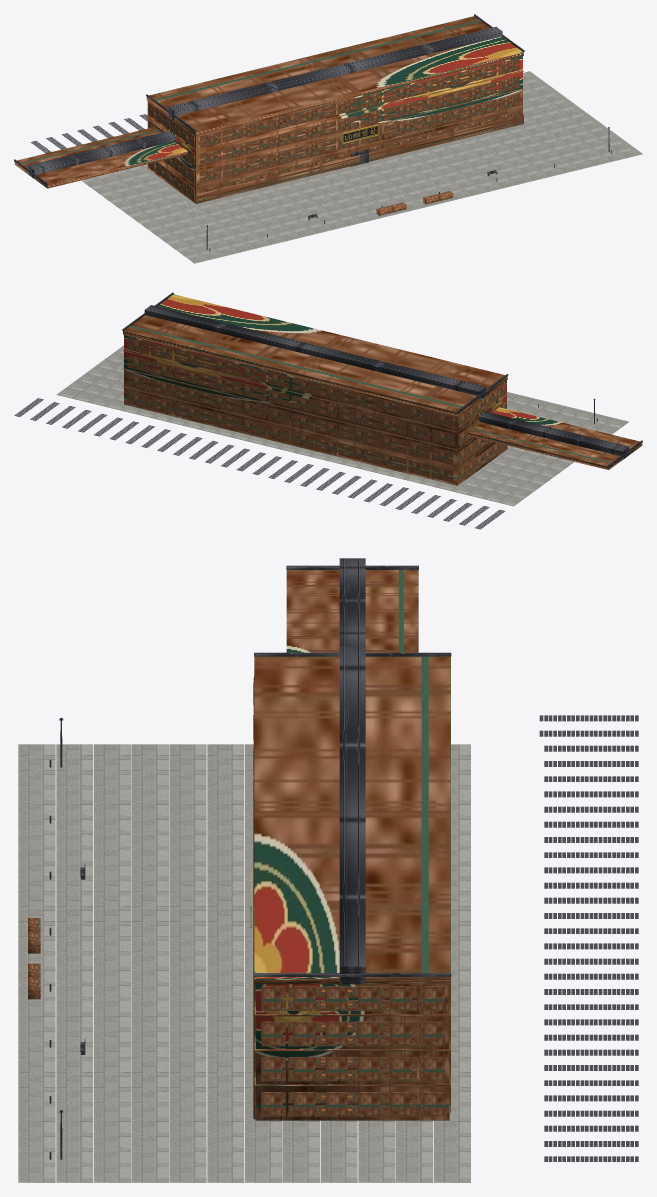
3 views of the same model, one above another, from view 1: azimuth 30°, elevation 25°; view 2: azimuth 150°, elevation 25°; view 3: azimuth 270°, elevation 25° (orthographic). The views are drawn at different scales.
Parts seen in each view (by area): view 1: 11140_02_04549_031_02__mass_body_facade, 11140_02_04549_031_01__plinth_ground_base, 11140_02_04549_031_03__roof_metal_ornament, 11140_02_04549_031_05__window_sash_glass, 11140_02_04549_031_03__roof_deck_structure, 11140_02_04549_031_06__landscape_greenery, 11140_02_04549_031_05__door_hardware_iron, 11140_02_04549_031_04__sign_board; view 2: 11140_02_04549_031_02__mass_body_facade, 11140_02_04549_031_01__plinth_ground_base, 11140_02_04549_031_03__roof_metal_ornament, 11140_02_04549_031_03__roof_deck_structure; view 3: 11140_02_04549_031_01__plinth_ground_base, 11140_02_04549_031_02__mass_body_facade, 11140_02_04549_031_03__roof_deck_structure, 11140_02_04549_031_03__roof_metal_ornament, 11140_02_04549_031_06__landscape_greenery.
Part boxes in pixels (x1,y1,x2,y2): 11140_02_04549_031_02__mass_body_facade: (14,16,523,203); 11140_02_04549_031_01__plinth_ground_base: (81,71,642,263); 11140_02_04549_031_03__roof_metal_ornament: (14,14,524,185); 11140_02_04549_031_05__window_sash_glass: (208,60,511,191); 11140_02_04549_031_03__roof_deck_structure: (30,114,147,153); 11140_02_04549_031_06__landscape_greenery: (376,191,453,215); 11140_02_04549_031_05__door_hardware_iron: (206,127,612,251); 11140_02_04549_031_04__sign_board: (342,125,379,143); 11140_02_04549_031_02__mass_body_facade: (123,294,642,485); 11140_02_04549_031_01__plinth_ground_base: (56,345,628,506); 11140_02_04549_031_03__roof_metal_ornament: (122,292,642,466); 11140_02_04549_031_03__roof_deck_structure: (14,398,505,529); 11140_02_04549_031_01__plinth_ground_base: (18,744,470,1182); 11140_02_04549_031_02__mass_body_facade: (253,570,450,1120); 11140_02_04549_031_03__roof_deck_structure: (539,715,638,1161); 11140_02_04549_031_03__roof_metal_ornament: (254,558,451,984); 11140_02_04549_031_06__landscape_greenery: (28,918,40,999).
Size of the model in its own units: 113 by 16.1 by 57.48.
Materials: 7 (7 with a texture image).
